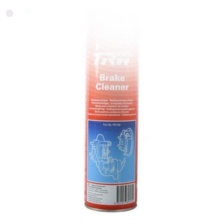aerosol_cans: (81, 3, 140, 214)
